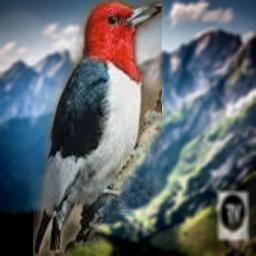Woodpecker: (33, 0, 162, 256)
